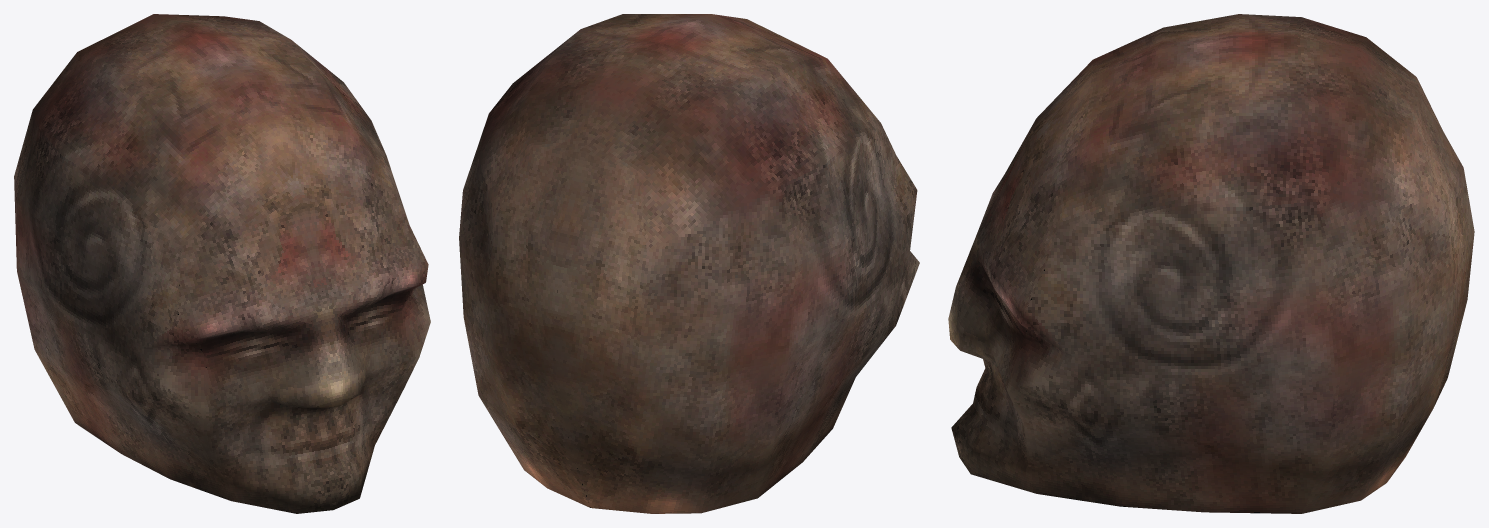
File: head.glb
3 views of the same model, side by side, from view 1: azimuth 30°, elevation 25°; view 2: azimuth 150°, elevation 25°; view 3: azimuth 270°, elevation 25° (orthographic). The views are drawn at different scales.
Visible parts, largest first — view 1: Cube.001; view 2: Cube.001; view 3: Cube.001.
Part boxes in pixels (box(x1,y1,x2,y2)): Cube.001: box(14, 14, 430, 513); Cube.001: box(459, 14, 919, 513); Cube.001: box(948, 14, 1474, 513).
Bounding box in the file's own units: 2.52 × 2.82 × 3.22.
Materials: 1 (1 with a texture image).
